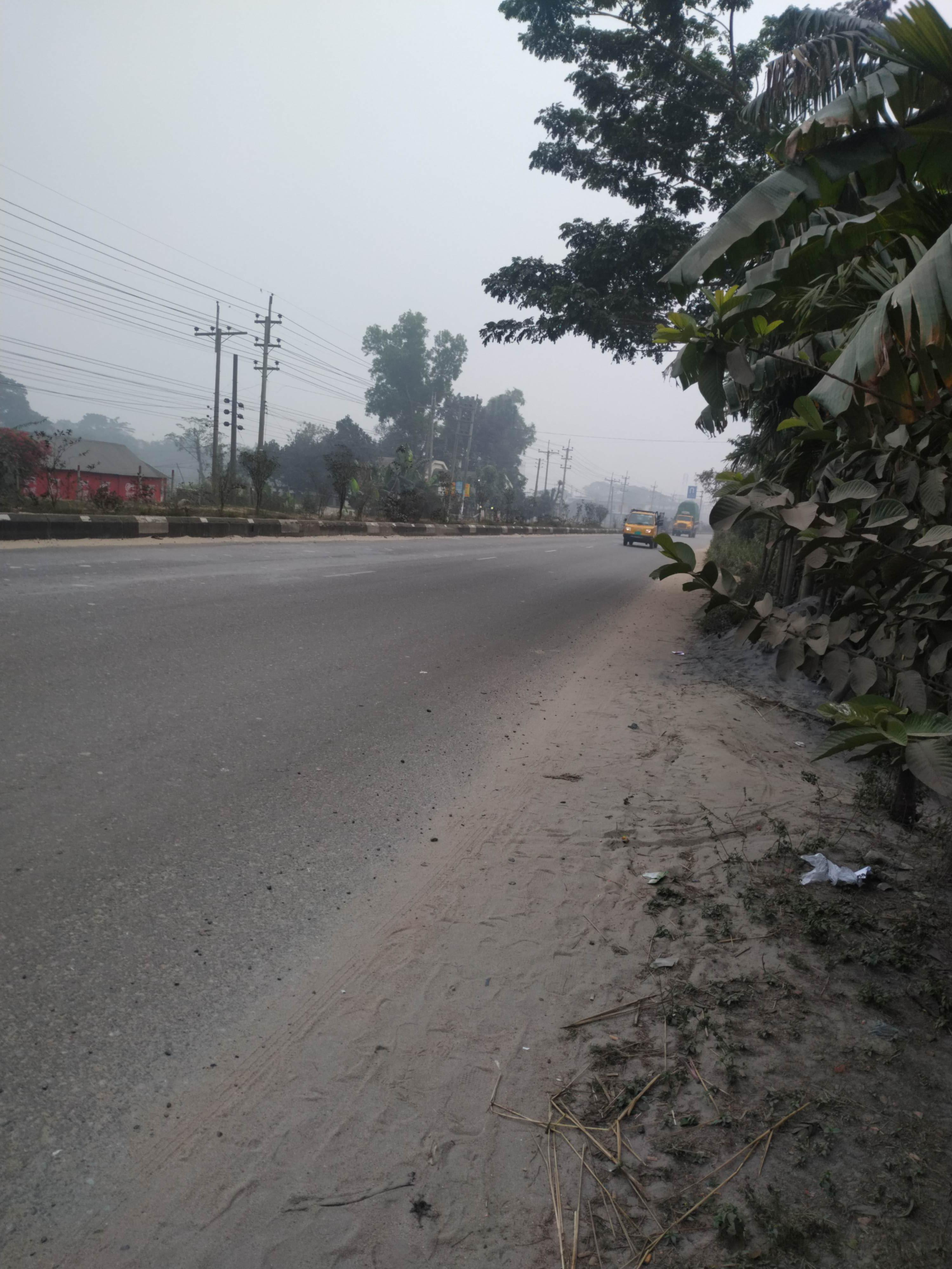Truck: (604, 498, 673, 552), (666, 497, 710, 549)
